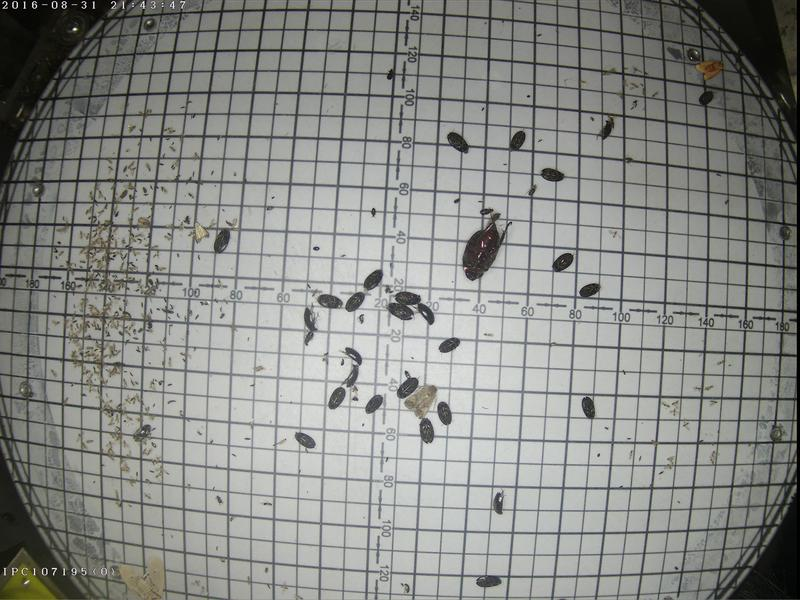Rice Leaf Roller: (194, 220, 207, 241)
